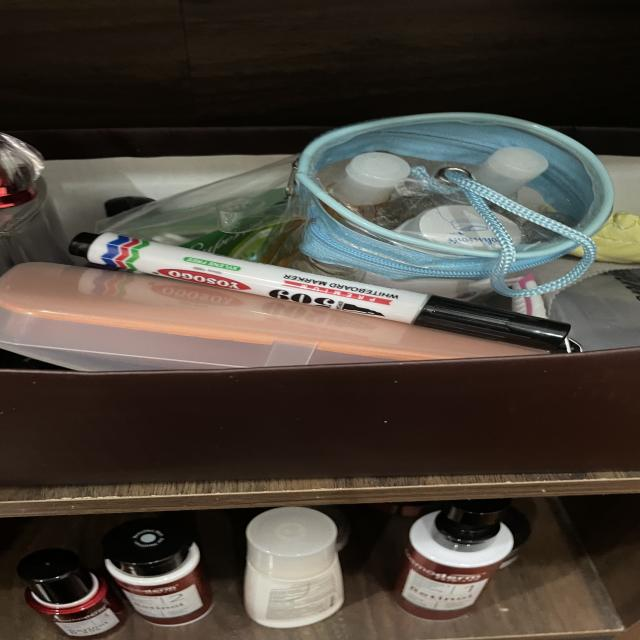marker: (69, 232, 573, 352)
